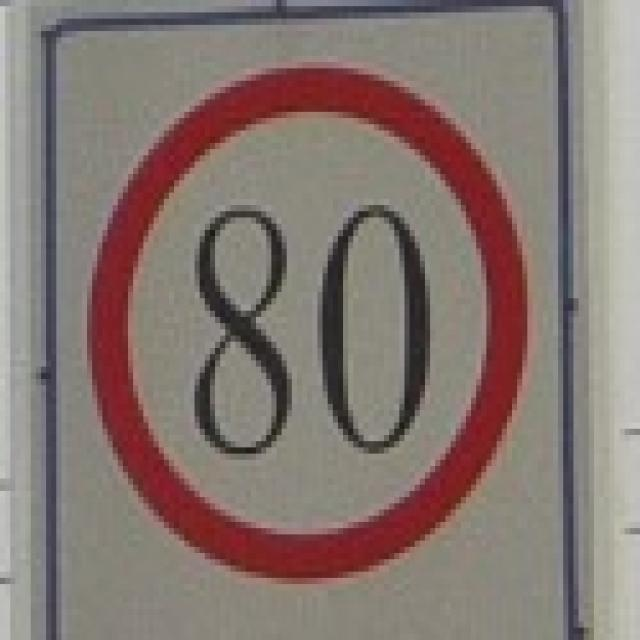Speed Limit -80-: (191, 199, 433, 461)
